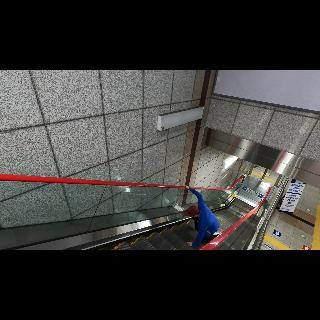anomaly: (181, 182, 223, 250)
